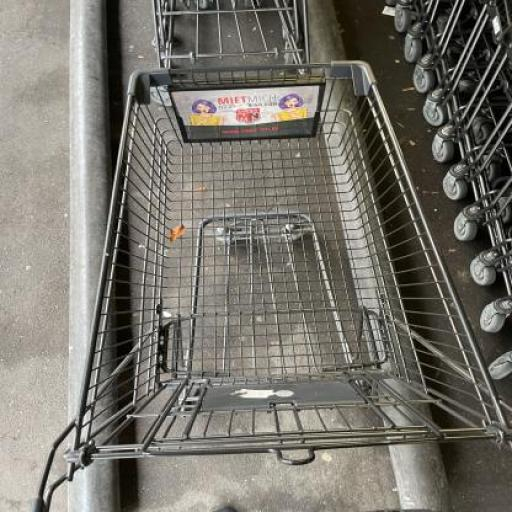shopping_cart: (64, 58, 512, 460)
